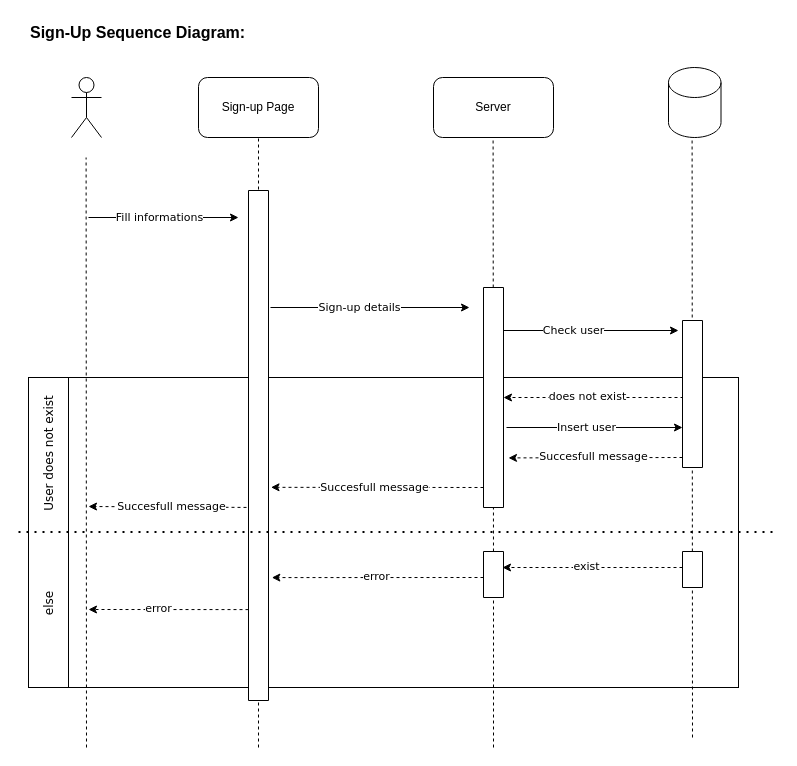
The diagram is 797 pixels wide and 766 high, and some of its shapes have lost their labels. The shapes that lost their labels are listed below. From the top down, each one's centre as x and y in pixels, then its label:
At pixel 86 107: "Actor".
At pixel 694 102: "DB".
